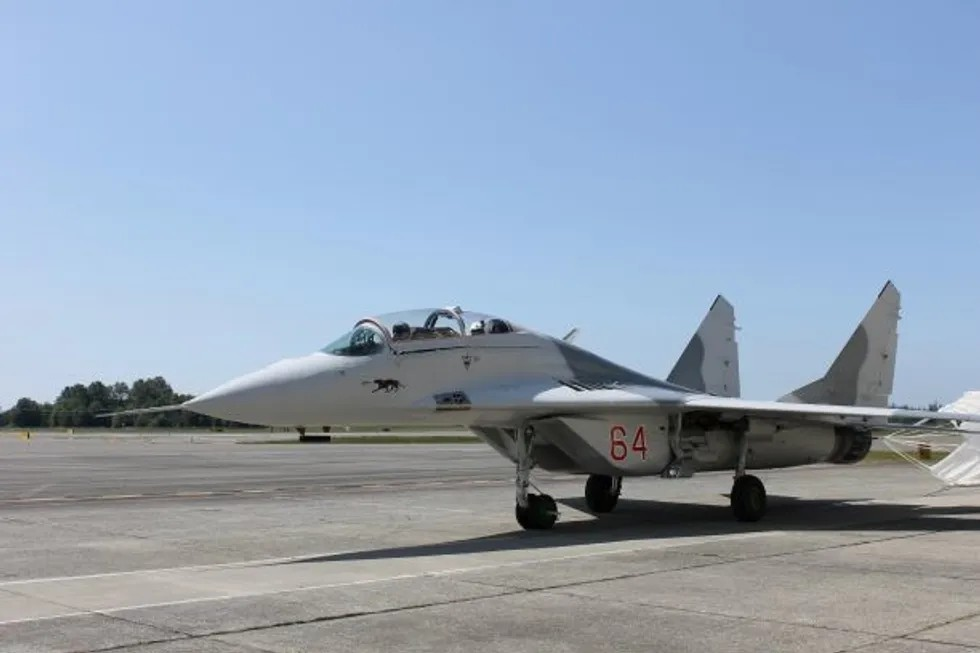Mig-29: (76, 248, 951, 584)
